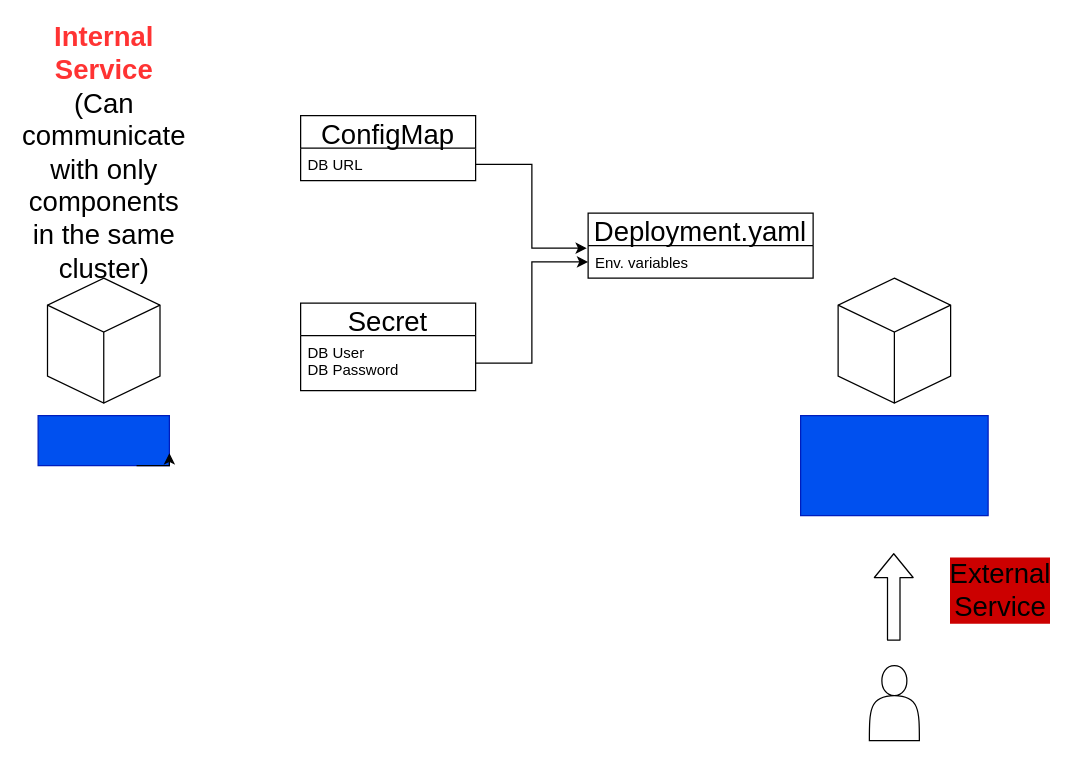
This 1073x763 diagram has some shape labels left out. The shapes that lost their labels are listed below. From the top down, each one's centre as x and y in pixels, then its label:
(103,440): MongoDB POD
(893,465): Mongo-Express Deployment
